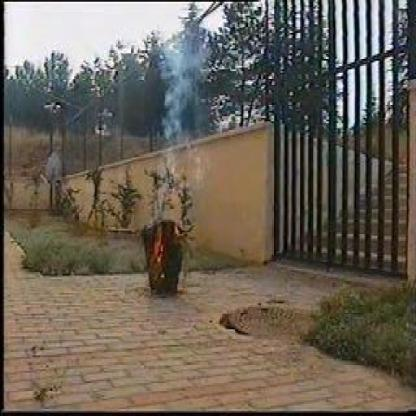-: (158, 49, 202, 149)
foggia-v2-map80-epoch100 - v1 4323: (152, 219, 168, 261)
